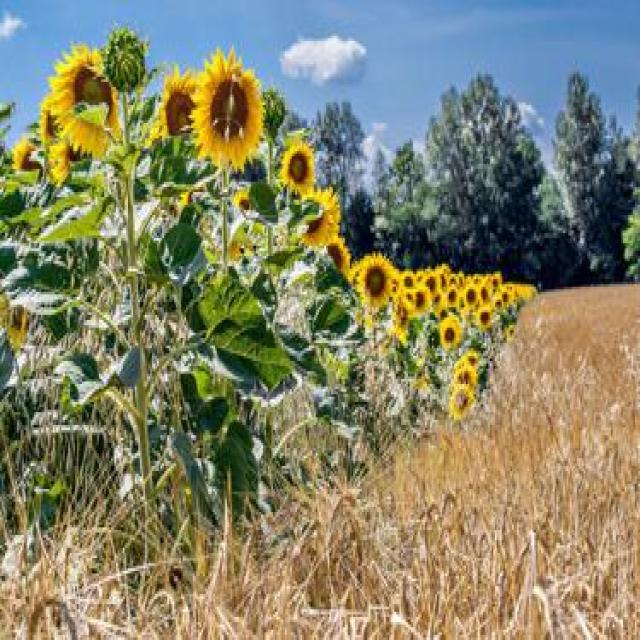sunflower: (187, 42, 270, 176), (45, 42, 122, 168), (152, 59, 200, 146), (349, 248, 399, 318), (293, 187, 344, 253), (280, 137, 317, 198), (323, 230, 355, 279), (447, 385, 476, 419), (437, 319, 464, 352), (420, 266, 440, 300), (460, 283, 480, 313), (399, 265, 416, 296), (412, 286, 431, 310), (476, 306, 495, 326), (488, 269, 504, 289)
